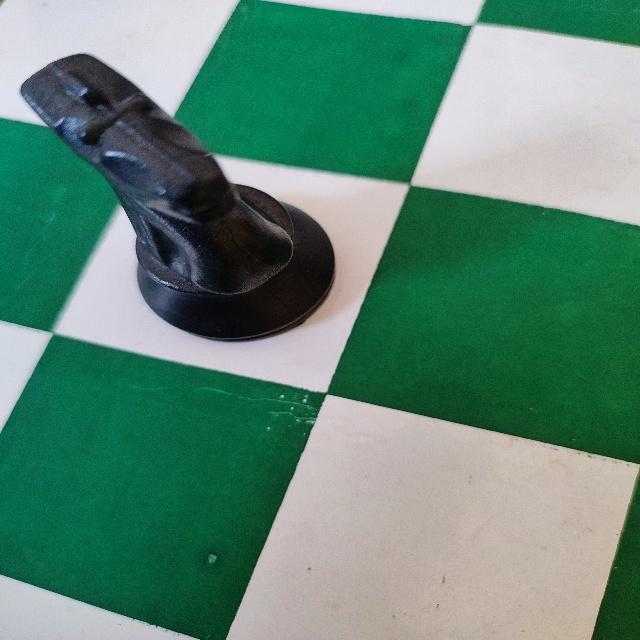Knight: (12, 48, 337, 344)
